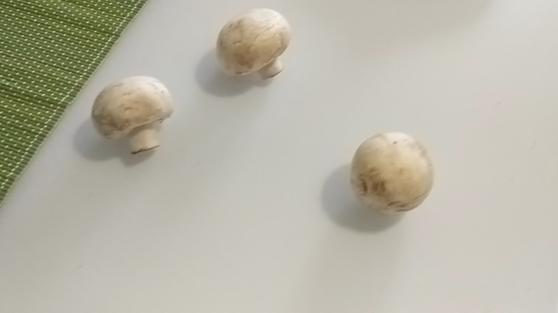champignon: (348, 129, 434, 214), (90, 76, 172, 153), (215, 10, 289, 80)
